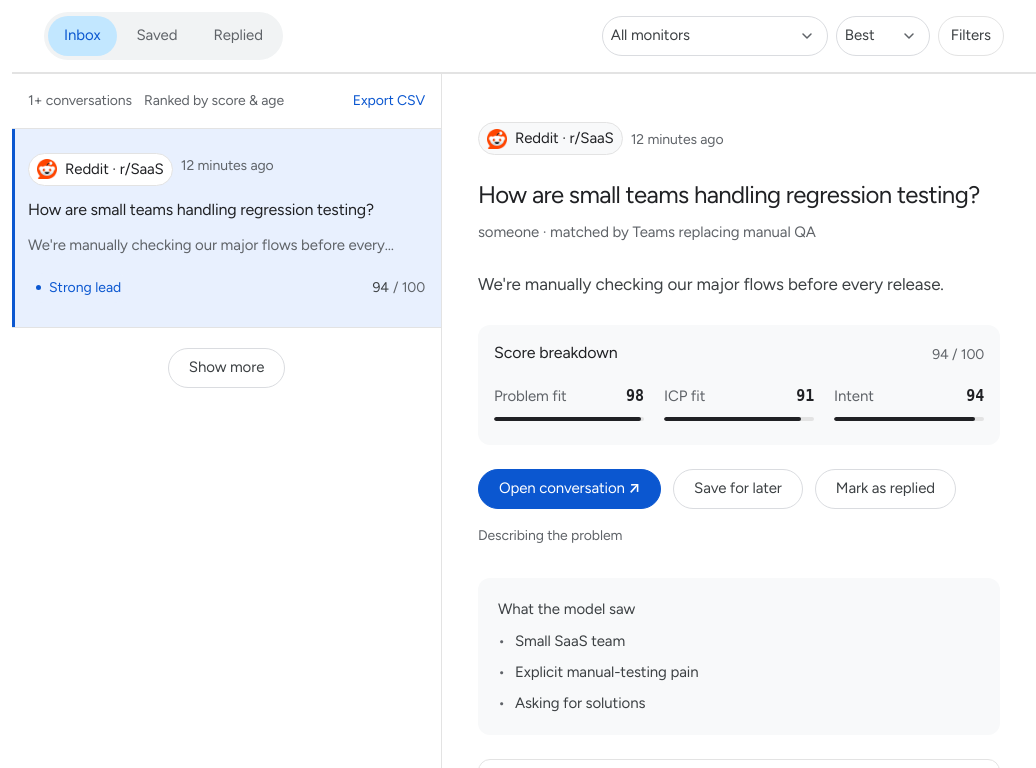
Test: the inbox › asks for the next page against the clock the first page used
The width and height of the screenshot is (1036, 768).
What coordinates should you click on to do the following:
click the button "Show more"
I would click on:
 (226, 368)
Its box is 168,348 -> 285,388.
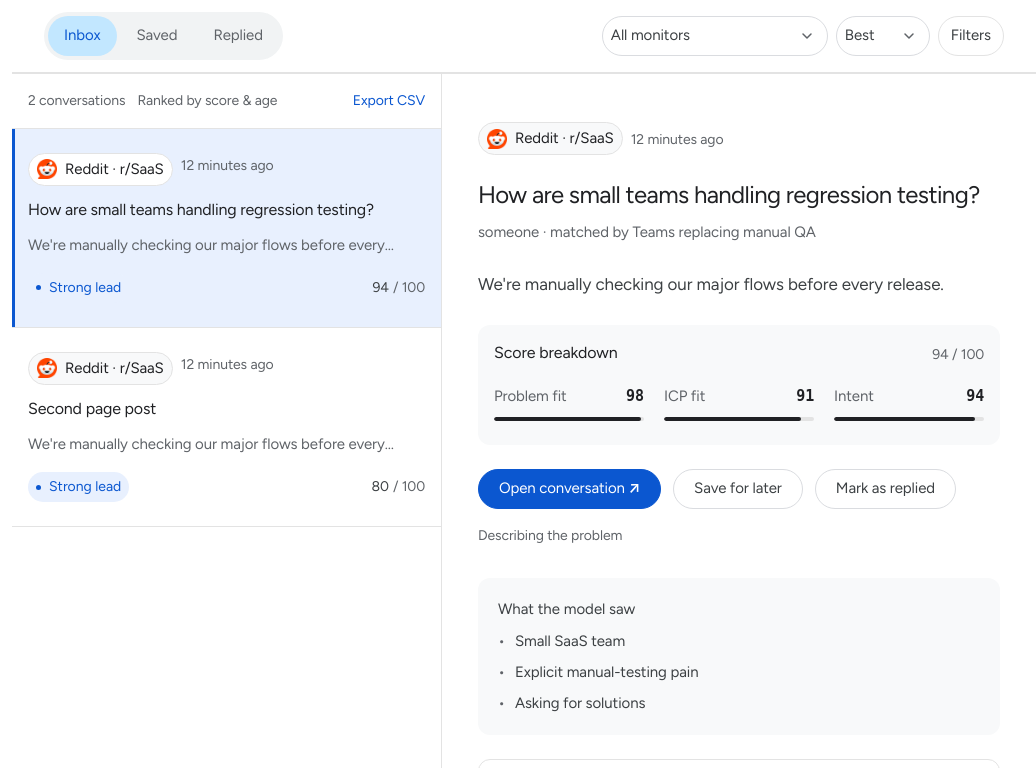
Expected: the text "How are small teams handling regression testing?" is shown, 28,198 -> 425,221
Expected: the text "Second page post" is shown, 28,399 -> 156,418
